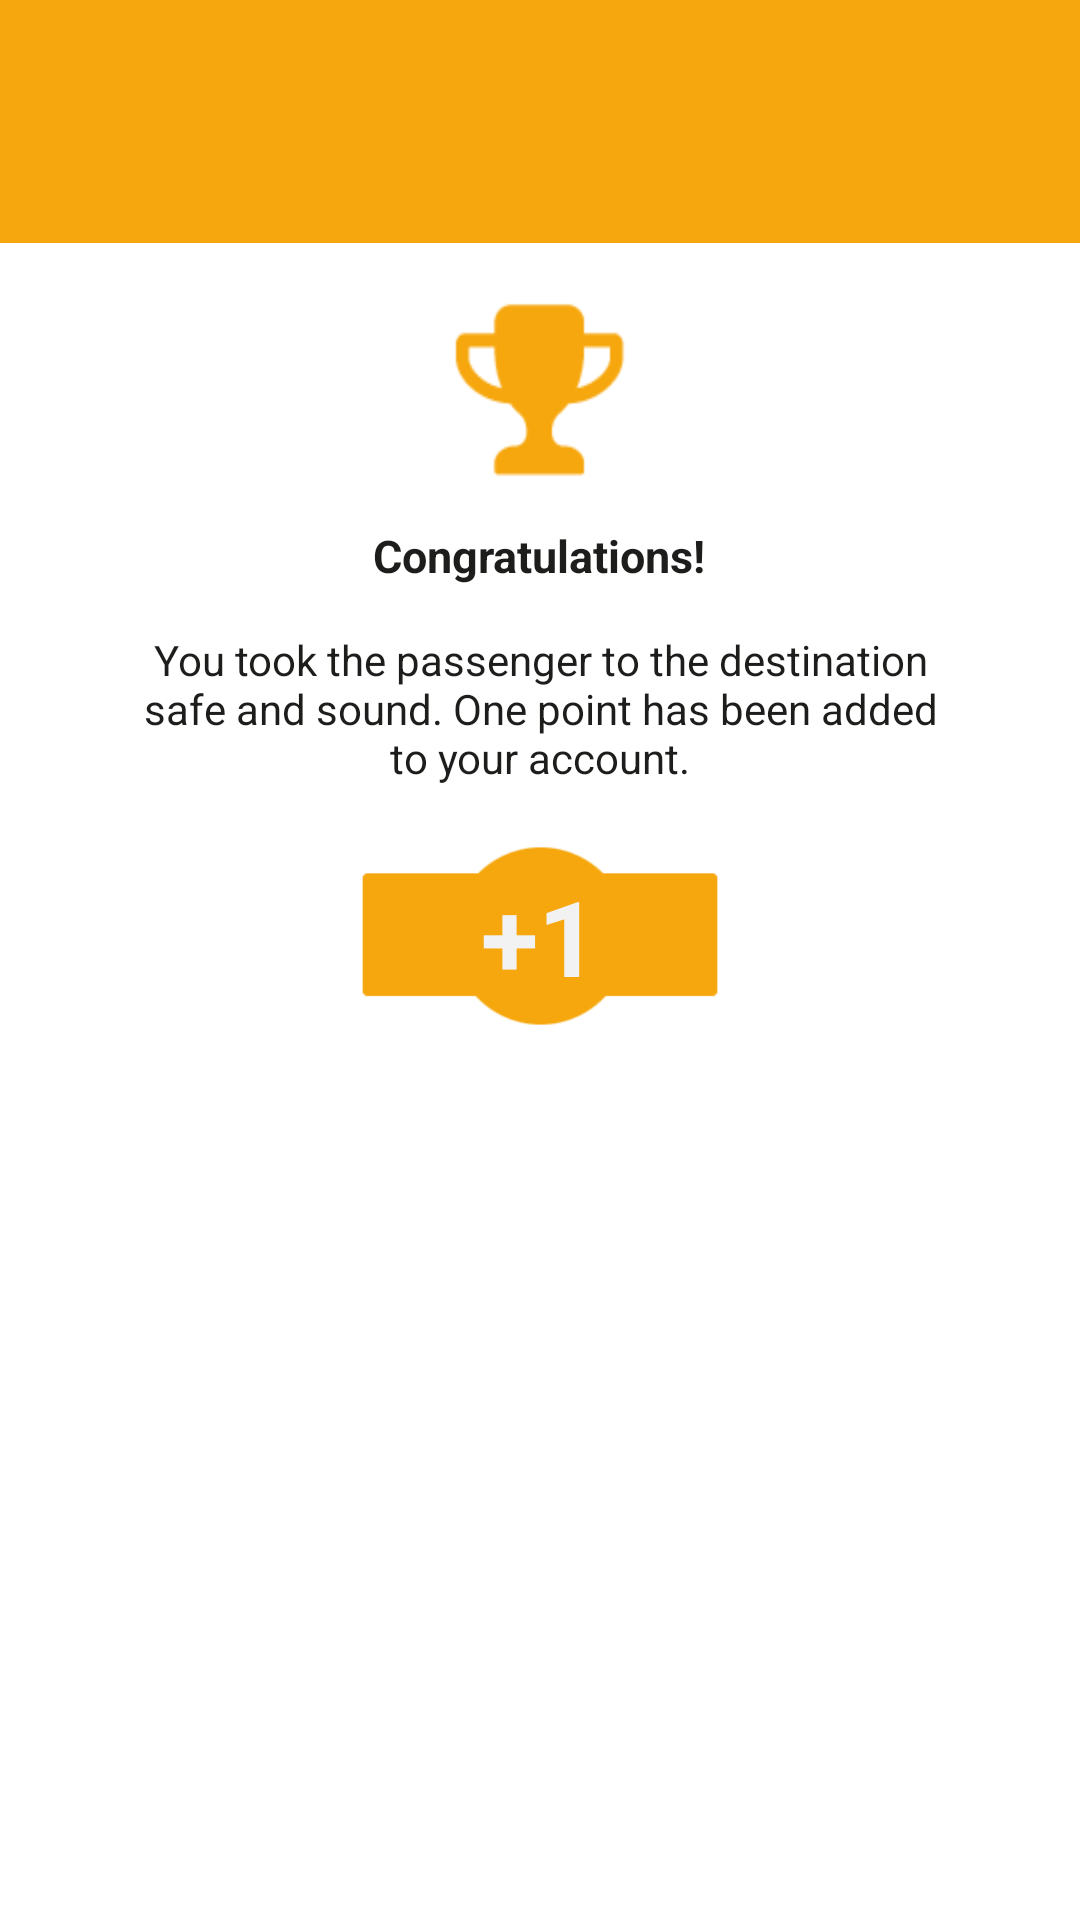

Icons on this 1080 x 1920 Android screen, each with its box as (x1, y1, x2, y2):
cup: (455, 304, 625, 476)
